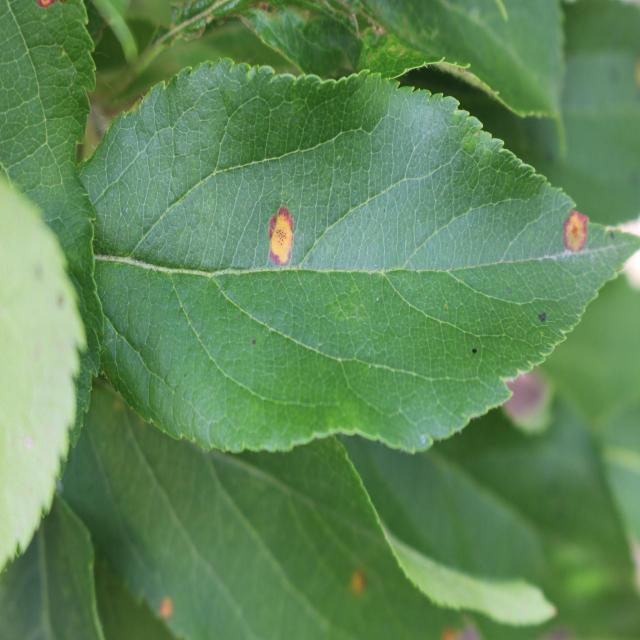Rust: (262, 200, 296, 282), (339, 550, 374, 610), (563, 200, 594, 262), (151, 599, 179, 630), (30, 0, 65, 17)
